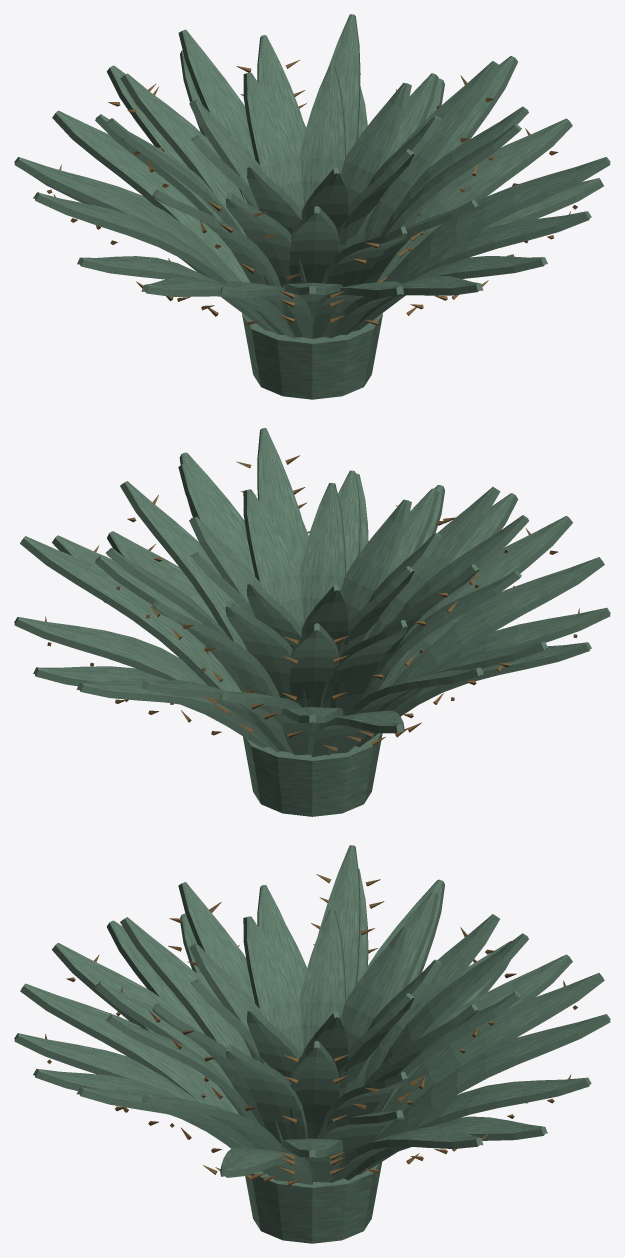
File: SUCCULENT_01_BLUE_AGAVE.glb
3 renders of one model, top to bottom at view 1: azimuth 30°, elevation 25°; view 2: azimuth 150°, elevation 25°; view 3: azimuth 270°, elevation 25°, orthographic.
Parts seen in each view (by area): view 1: SUCCULENT_01_BLUE_AGAVE__FLESHY_SPEARS, SUCCULENT_01_BLUE_AGAVE__CROWN, SUCCULENT_01_BLUE_AGAVE__MARGINAL_SPINES; view 2: SUCCULENT_01_BLUE_AGAVE__FLESHY_SPEARS, SUCCULENT_01_BLUE_AGAVE__CROWN, SUCCULENT_01_BLUE_AGAVE__MARGINAL_SPINES; view 3: SUCCULENT_01_BLUE_AGAVE__FLESHY_SPEARS, SUCCULENT_01_BLUE_AGAVE__CROWN, SUCCULENT_01_BLUE_AGAVE__MARGINAL_SPINES.
Part boxes in pixels (x1,y1,x2,y2): SUCCULENT_01_BLUE_AGAVE__FLESHY_SPEARS: (14,14,610,338); SUCCULENT_01_BLUE_AGAVE__CROWN: (242,313,382,399); SUCCULENT_01_BLUE_AGAVE__MARGINAL_SPINES: (47,60,577,325); SUCCULENT_01_BLUE_AGAVE__FLESHY_SPEARS: (14,428,610,756); SUCCULENT_01_BLUE_AGAVE__CROWN: (243,733,382,816); SUCCULENT_01_BLUE_AGAVE__MARGINAL_SPINES: (45,455,579,751); SUCCULENT_01_BLUE_AGAVE__FLESHY_SPEARS: (14,845,610,1185); SUCCULENT_01_BLUE_AGAVE__CROWN: (245,1162,381,1243); SUCCULENT_01_BLUE_AGAVE__MARGINAL_SPINES: (45,874,577,1185).
Bounding box in the file's own units: 0.8017 × 0.4244 × 0.8038.
Materials: 1 (1 with a texture image).
